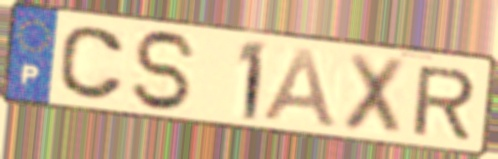1: (235, 39, 270, 124)
A: (258, 45, 342, 132)
C: (56, 24, 128, 103)
R: (408, 64, 479, 142)
S: (130, 27, 201, 114)
X: (338, 49, 410, 140)
